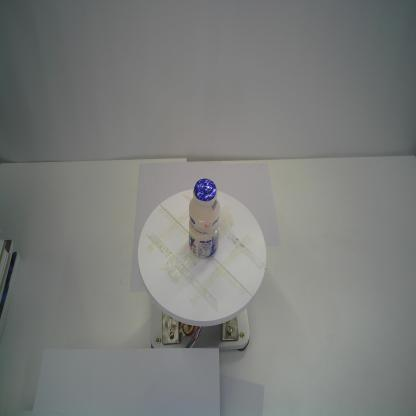Milk: (186, 177, 221, 261)
